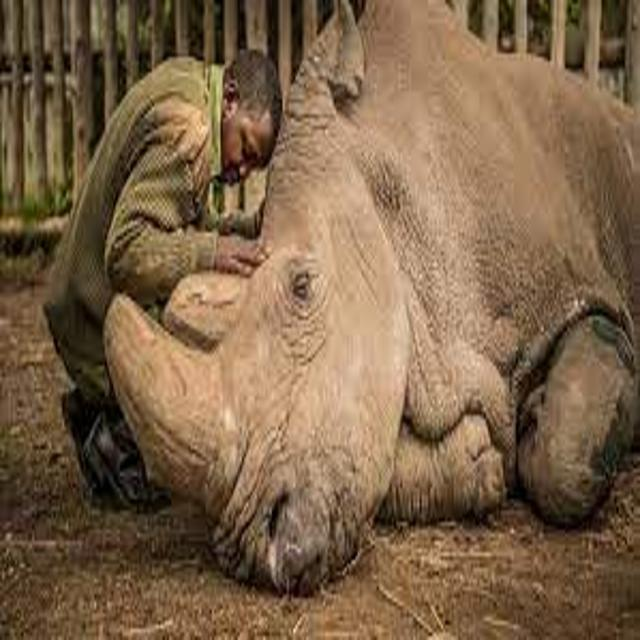Rinoceros: (89, 140, 640, 596)
